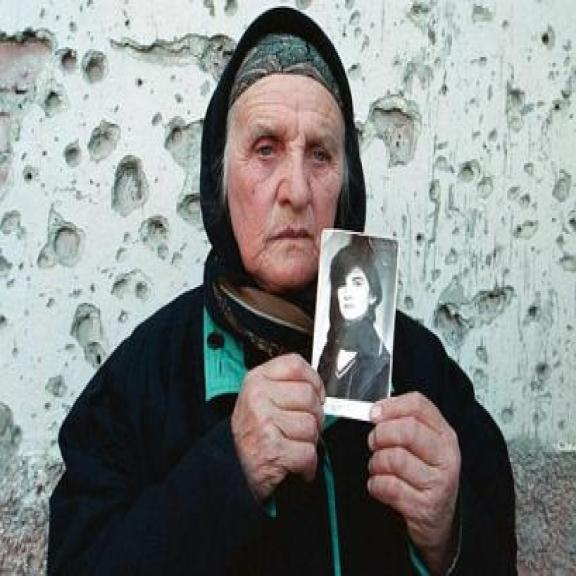face: (233, 80, 342, 294), (340, 266, 381, 326)
